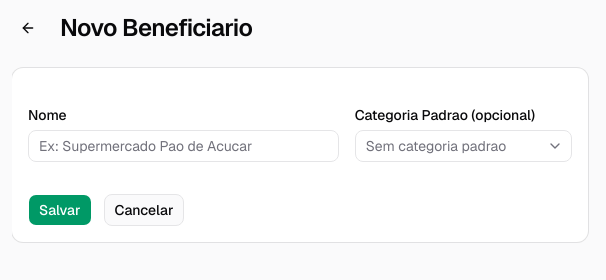
Test: NovoPayeePage › exibe erro de validacao quando nome e vazio
Click the button "Salvar". click: (60, 210)
box: [28,194,92,226]
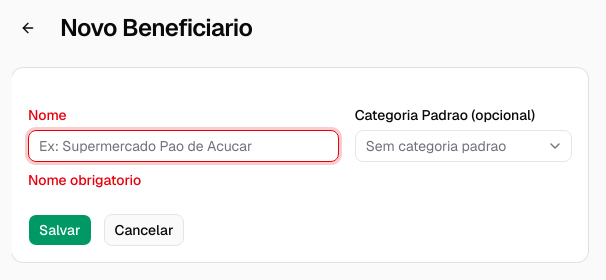
Now the text "Nome obrigatorio" is shown, box [28,171,141,189]
